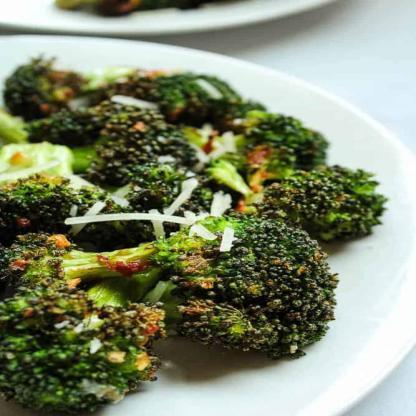broccoli: (0, 54, 391, 415)
